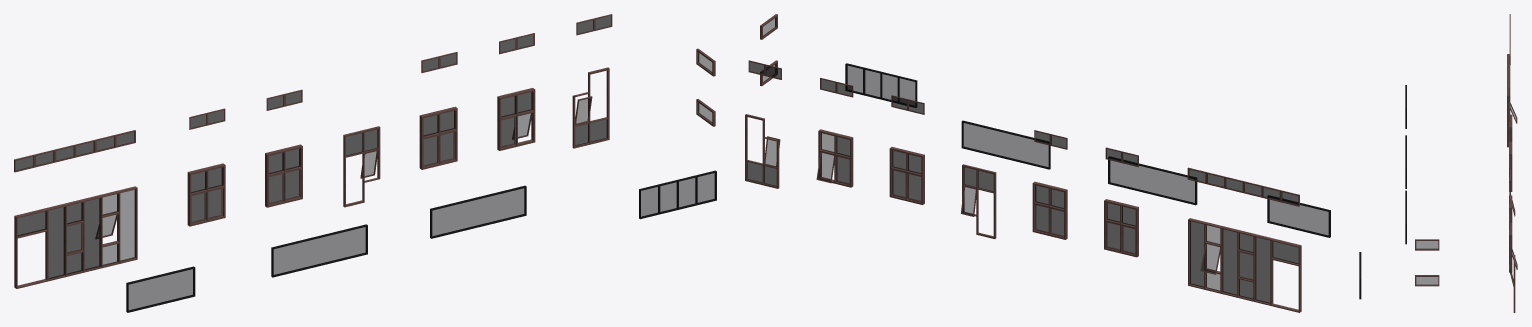
The model's file is C2_Windows.FBX.
3 views of the same model, side by side, from view 1: azimuth 30°, elevation 25°; view 2: azimuth 150°, elevation 25°; view 3: azimuth 270°, elevation 25° (orthographic). The views are drawn at different scales.
Visible parts, largest first — view 1: C2_Window18, C2_Window03, C2_Window02, C2_Window04, C2_Window01, C2_Window17, C2_Window11, C2_Window14, C2_Window10, C2_Window07, C2_Window13, C2_Window19 (+5 smaller); view 2: C2_Window18, C2_Window03, C2_Window02, C2_Window04, C2_Window10, C2_Window14, C2_Window11, C2_Window17, C2_Window01, C2_Window13, C2_Window07, C2_Window19 (+5 smaller); view 3: C2_Window18, C2_Window05, C2_Window06, C2_Window10, C2_Window07, C2_Window14, C2_Window04.
Boxes of the visible parts, x1,y1,x2,y2 form: C2_Window18: (14, 186, 137, 288); C2_Window03: (430, 185, 526, 238); C2_Window02: (271, 224, 367, 277); C2_Window04: (639, 170, 716, 219); C2_Window01: (126, 266, 195, 312); C2_Window17: (187, 163, 225, 226); C2_Window11: (419, 106, 457, 169); C2_Window14: (265, 144, 302, 207); C2_Window10: (497, 88, 535, 150); C2_Window07: (572, 67, 609, 148); C2_Window13: (343, 126, 380, 207); C2_Window19: (14, 130, 135, 172); C2_Window18: (1188, 218, 1301, 312); C2_Window03: (961, 120, 1050, 169); C2_Window02: (1108, 156, 1197, 205); C2_Window04: (845, 63, 917, 107); C2_Window10: (816, 129, 853, 187); C2_Window14: (1032, 181, 1067, 239); C2_Window11: (889, 147, 924, 204); C2_Window17: (1104, 199, 1138, 257); C2_Window01: (1267, 195, 1330, 237); C2_Window13: (961, 164, 996, 238); C2_Window07: (745, 114, 780, 188); C2_Window19: (1187, 167, 1299, 206); C2_Window18: (1507, 54, 1517, 147); C2_Window05: (1415, 239, 1439, 250); C2_Window06: (1415, 275, 1439, 286); C2_Window10: (1509, 222, 1517, 272); C2_Window07: (1509, 255, 1515, 312); C2_Window14: (1509, 141, 1512, 191); C2_Window04: (1359, 252, 1361, 299).
Size of the model in its own units: 3196 by 615 by 968.
